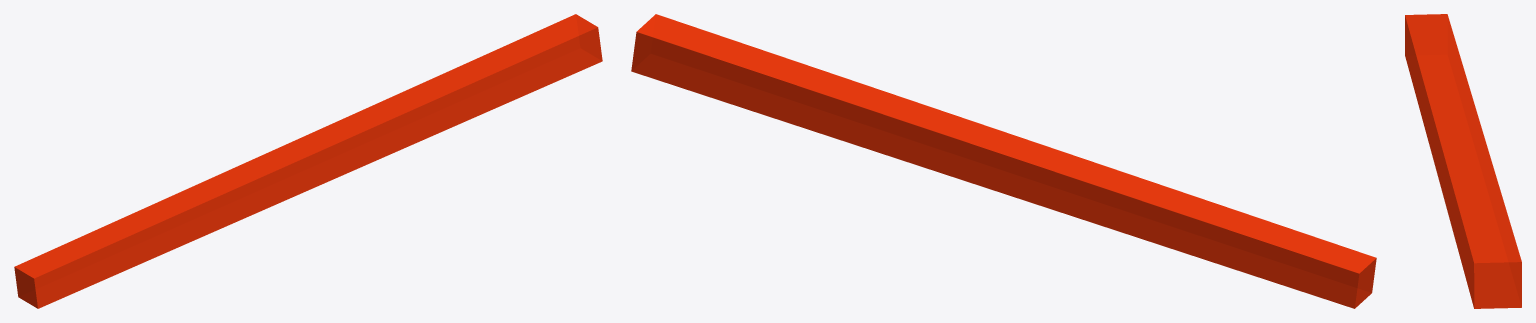
File: Event_421364160_EErechit_36.fbx
3 renders of one model, left to right at view 1: azimuth 30°, elevation 25°; view 2: azimuth 150°, elevation 25°; view 3: azimuth 270°, elevation 25°, orthographic. The views are drawn at different scales.
Visible parts, largest first — view 1: Model; view 2: Model; view 3: Model.
Boxes of the visible parts, <box> form: Model: <box>14,14,602,308</box>; Model: <box>631,14,1376,308</box>; Model: <box>1405,14,1521,308</box>.
Size of the model in its own units: 1.44 by 0.2705 by 0.199.
